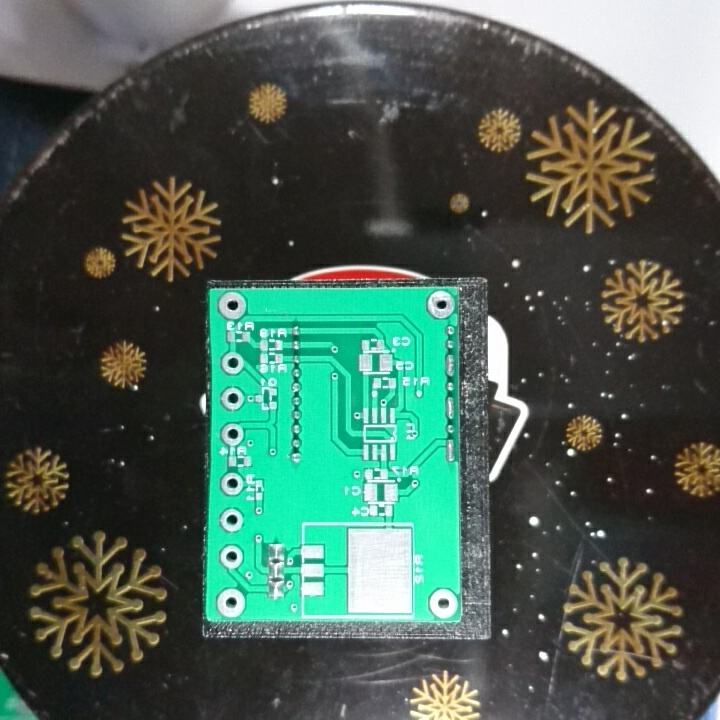F: (215, 289, 251, 322), (215, 586, 248, 620), (427, 586, 459, 620), (426, 289, 456, 320), (218, 349, 245, 379), (218, 385, 247, 412), (217, 506, 244, 535), (218, 421, 245, 449), (218, 543, 245, 571), (219, 472, 246, 499)
P: (442, 393, 457, 423), (442, 351, 458, 379), (442, 436, 457, 464)
